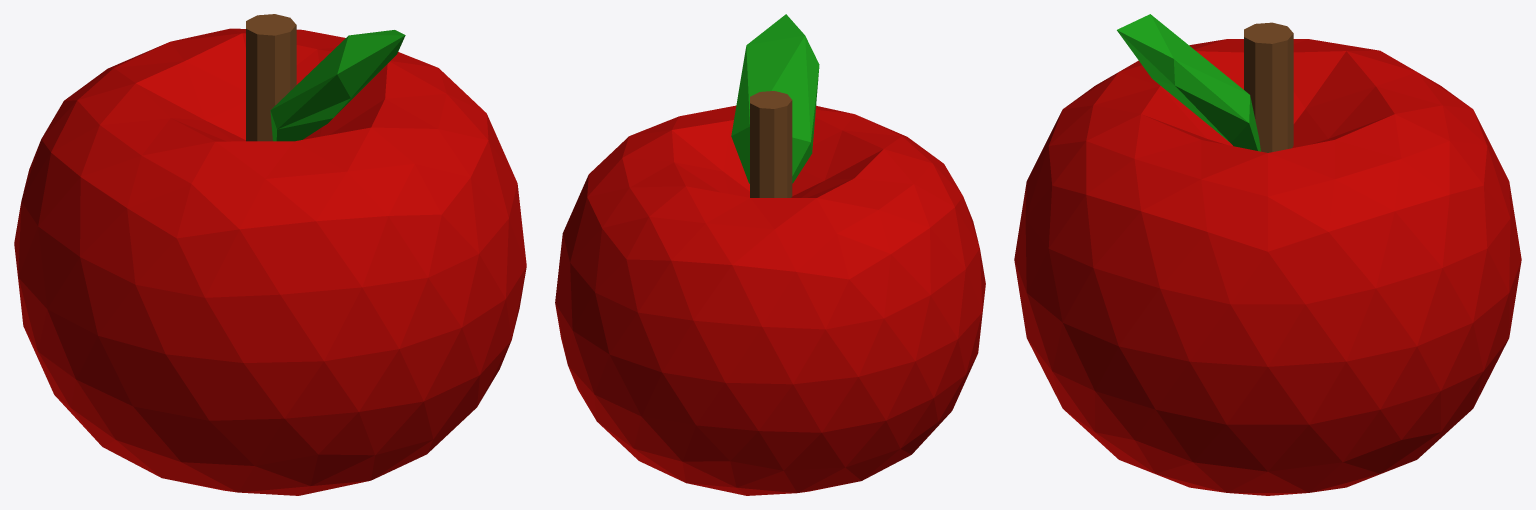
Rendered from Apple_v.1.5.fbx.
3 views of the same model, side by side, from view 1: azimuth 30°, elevation 25°; view 2: azimuth 150°, elevation 25°; view 3: azimuth 270°, elevation 25° (orthographic). The views are drawn at different scales.
Parts seen in each view (by area): view 1: Icosphere; view 2: Icosphere; view 3: Icosphere.
Boxes of the visible parts, <box> form: Icosphere: <box>14,14,526,495</box>; Icosphere: <box>555,14,985,495</box>; Icosphere: <box>1014,14,1521,495</box>.
Bounding box in the file's own units: 200 × 195 × 200.
